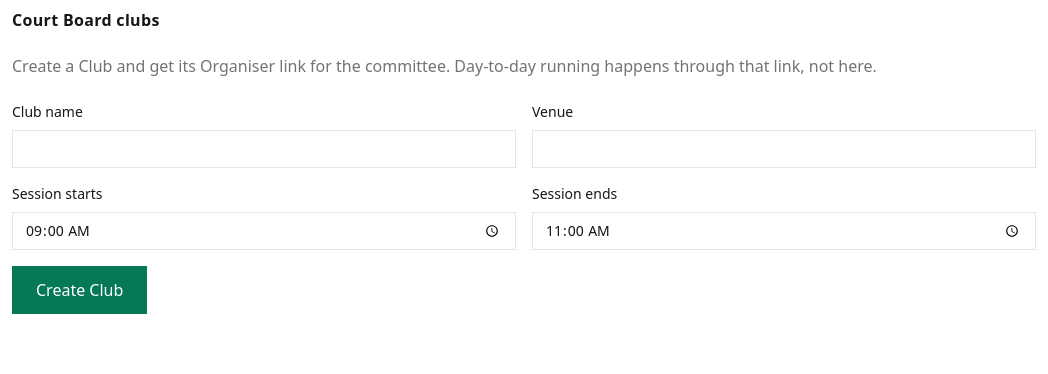
Test: CourtBoardClubsPanel › shows the invalid failure and no link
The image size is (1048, 374).
Type "Lunchtime Badminton" into the field labelled "Club name".
click(264, 149); type("Lunchtime Badminton")  # box 12,130 -> 516,168
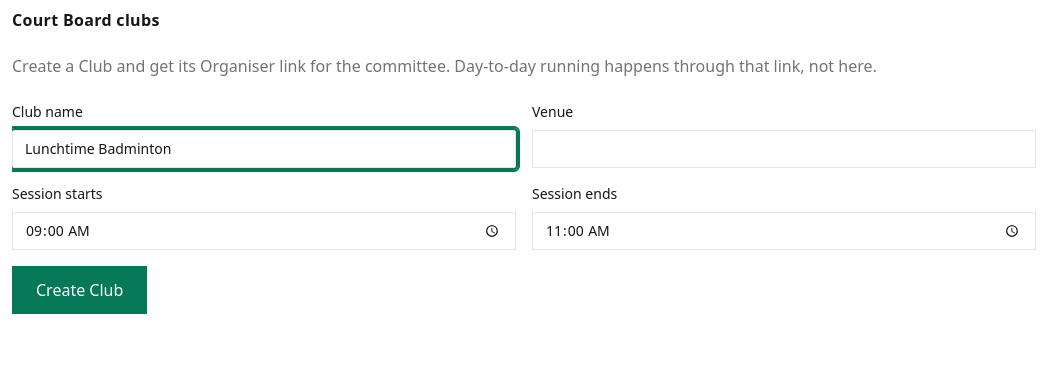
Type "Sports hall" into the field labelled "Venue".
click(784, 149); type("Sports hall")  # box 532,130 -> 1036,168
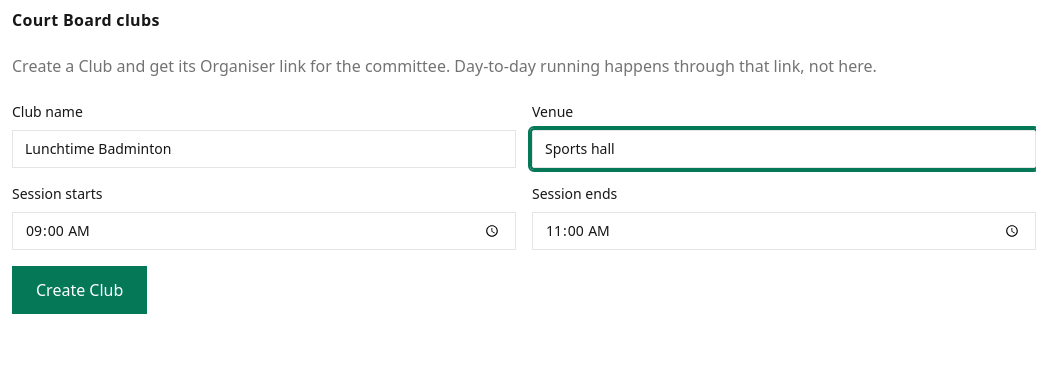
Click the button "Create Club".
click(80, 290)  # box 12,266 -> 147,314
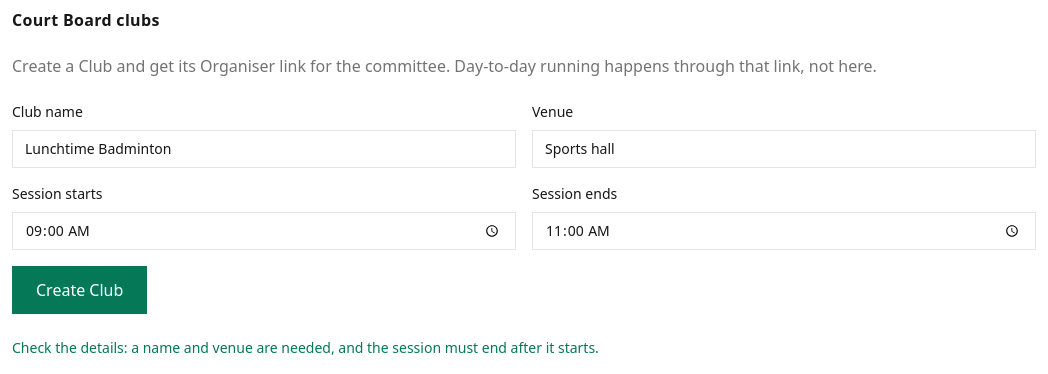
expect the message shows "Check the details: a name and venue are needed, and the session must end after it starts.": met, box 12,338 -> 599,357
